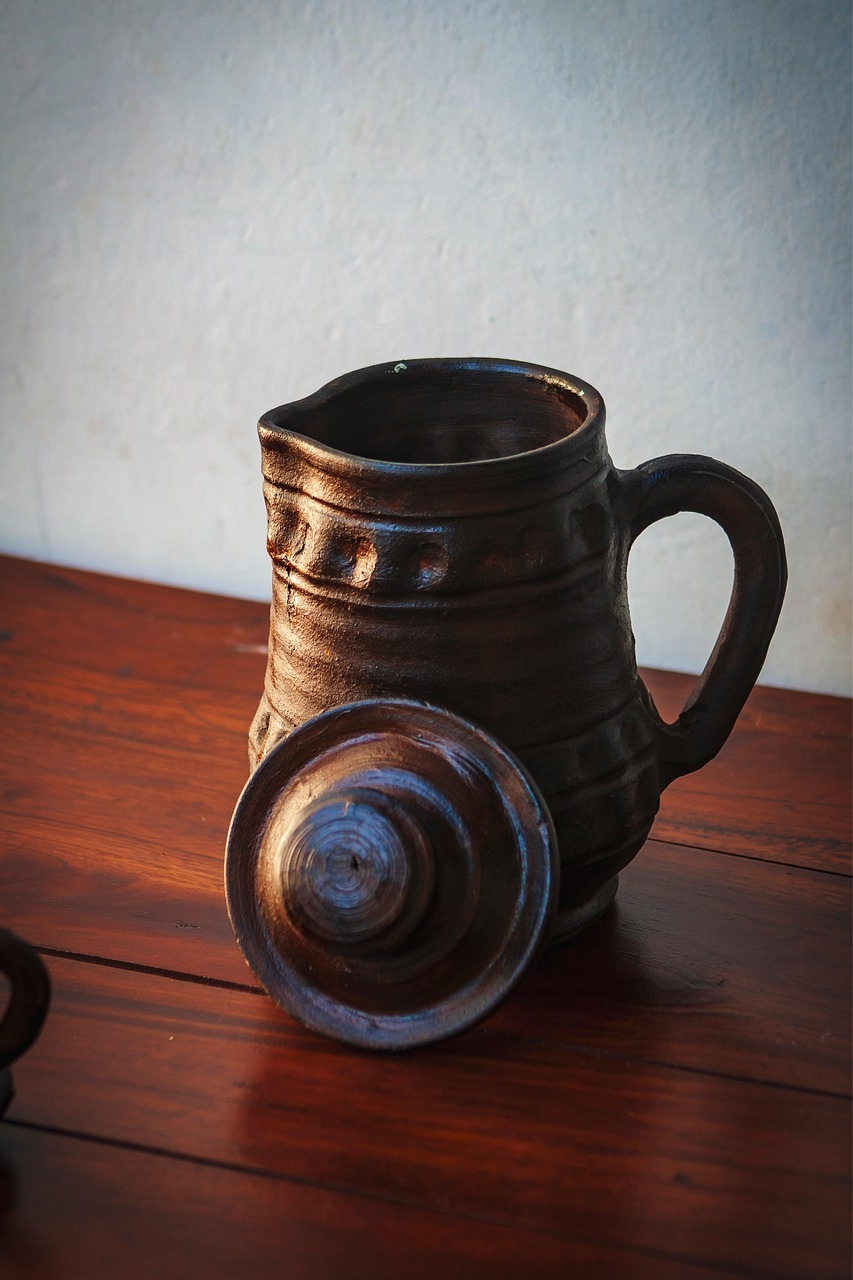mug: (85, 361, 806, 1115)
